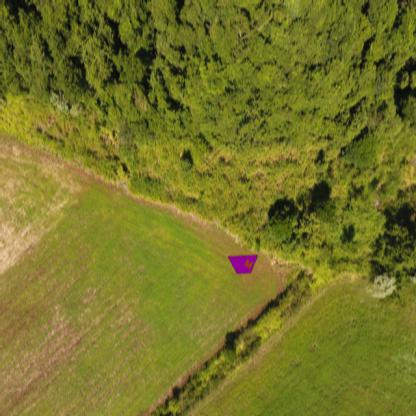M: (242, 257, 255, 270)
trapezium: (228, 254, 260, 274)
